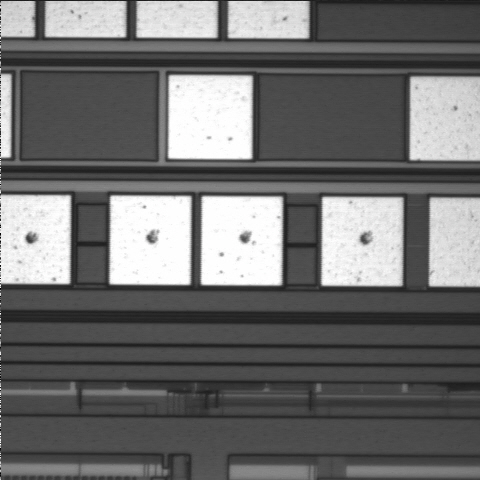pad: (201, 196, 283, 285), (321, 197, 403, 286), (110, 196, 191, 285), (168, 75, 252, 159)
